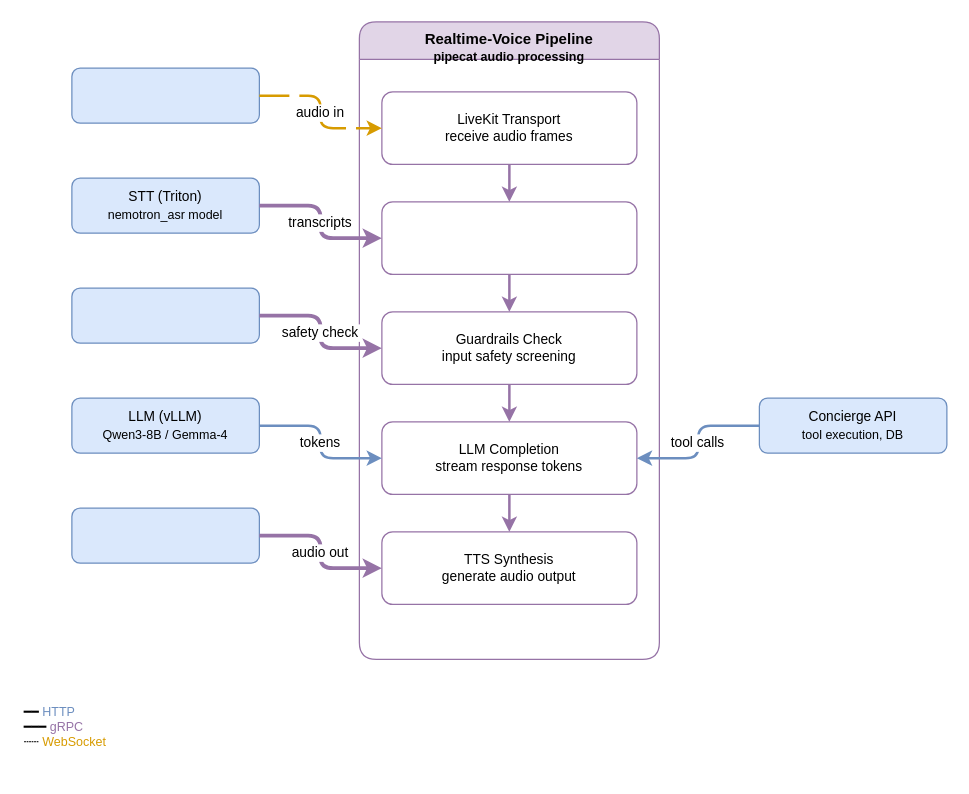
Some shapes in this 969 by 794 pixel diagram are drawn without their labels. Each missing label, with the centre of its shape:
Guardrails (Triton) 4 safety models: [165,315]
LiveKit Server WebRTC signalling: [165,95]
STT Processor transcribe to text: [509,237]
TTS (Triton) chatterbox_tts model: [165,535]
